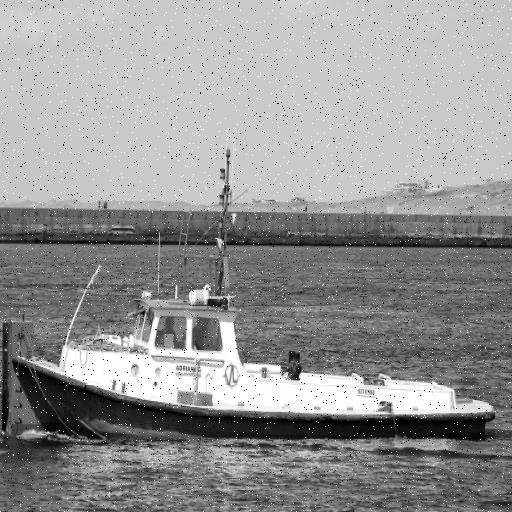tugboat: (1, 144, 499, 457)
